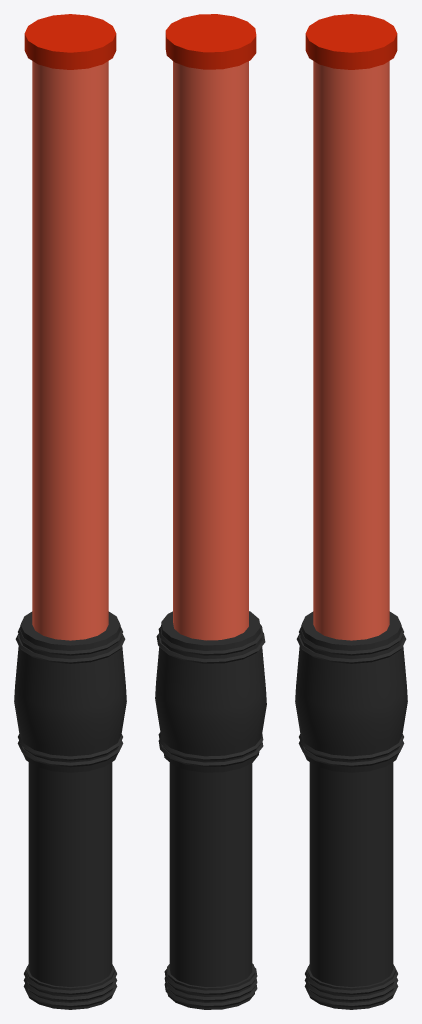
Rendered from 指揮棒.dae.
3 views of the same model, side by side, from view 1: azimuth 90°, elevation 25°; view 2: azimuth 150°, elevation 25°; view 3: azimuth 270°, elevation 25° (orthographic).
Visible parts, largest first — view 1: 圆柱, 圆柱.1, 圆柱.2, 圆柱.3, 圆柱.4, 圆环, 圆环.3, 圆环.1, 圆环.2, 圆环.6, 圆环.5, 圆环.4; view 2: 圆柱, 圆柱.1, 圆柱.2, 圆柱.3, 圆柱.4, 圆环, 圆环.1, 圆环.3, 圆环.2, 圆环.6, 圆环.4, 圆环.5; view 3: 圆柱, 圆柱.1, 圆柱.2, 圆柱.3, 圆柱.4, 圆环, 圆环.3, 圆环.1, 圆环.2, 圆环.6, 圆环.5, 圆环.4.
Boxes of the visible parts, x1=… form: 圆柱: x1=32, y1=61, x2=108, y2=640; 圆柱.1: x1=28, y1=762, x2=112, y2=986; 圆柱.2: x1=14, y1=611, x2=126, y2=772; 圆柱.3: x1=24, y1=14, x2=116, y2=69; 圆柱.4: x1=26, y1=964, x2=114, y2=1009; 圆环: x1=15, y1=634, x2=125, y2=663; 圆环.3: x1=17, y1=740, x2=123, y2=767; 圆环.1: x1=18, y1=627, x2=122, y2=655; 圆环.2: x1=18, y1=734, x2=122, y2=760; 圆环.6: x1=24, y1=966, x2=116, y2=994; 圆环.5: x1=23, y1=977, x2=117, y2=1001; 圆环.4: x1=23, y1=984, x2=117, y2=1007; 圆柱: x1=173, y1=61, x2=248, y2=640; 圆柱.1: x1=169, y1=762, x2=252, y2=986; 圆柱.2: x1=155, y1=611, x2=266, y2=772; 圆柱.3: x1=165, y1=14, x2=256, y2=69; 圆柱.4: x1=167, y1=963, x2=254, y2=1009; 圆环: x1=156, y1=632, x2=265, y2=663; 圆环.1: x1=158, y1=624, x2=263, y2=655; 圆环.3: x1=158, y1=740, x2=263, y2=766; 圆环.2: x1=158, y1=732, x2=263, y2=760; 圆环.6: x1=164, y1=967, x2=257, y2=994; 圆环.4: x1=164, y1=983, x2=257, y2=1007; 圆环.5: x1=164, y1=977, x2=257, y2=1001; 圆柱: x1=313, y1=61, x2=389, y2=640; 圆柱.1: x1=309, y1=762, x2=393, y2=986; 圆柱.2: x1=295, y1=611, x2=407, y2=772; 圆柱.3: x1=305, y1=14, x2=397, y2=69; 圆柱.4: x1=307, y1=964, x2=395, y2=1009; 圆环: x1=296, y1=634, x2=406, y2=663; 圆环.3: x1=298, y1=740, x2=404, y2=767; 圆环.1: x1=299, y1=627, x2=403, y2=655; 圆环.2: x1=299, y1=734, x2=403, y2=760; 圆环.6: x1=305, y1=966, x2=397, y2=994; 圆环.5: x1=304, y1=977, x2=398, y2=1001; 圆环.4: x1=304, y1=984, x2=398, y2=1007.
Size of the model in its own units: 3.75 by 35.12 by 3.75.
